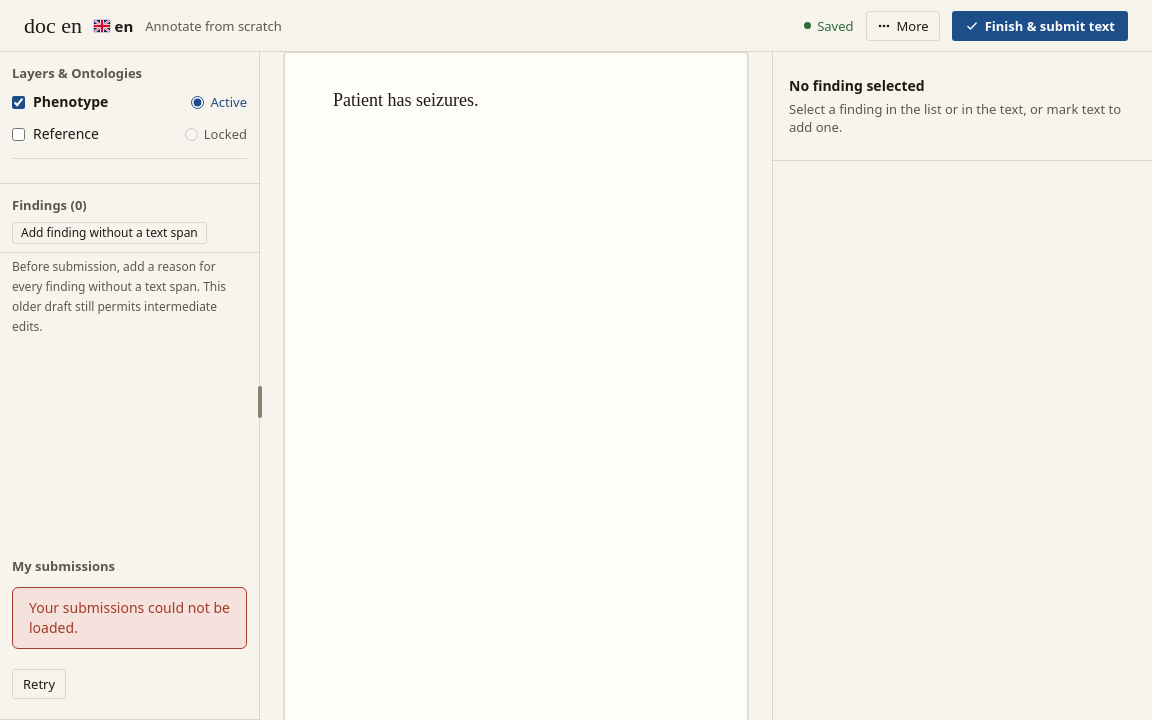
opens the newly created exact round from the real task editor controls
Click the button with aria-label "More actions" at coordinates (903, 26), box [866,10,940,40]
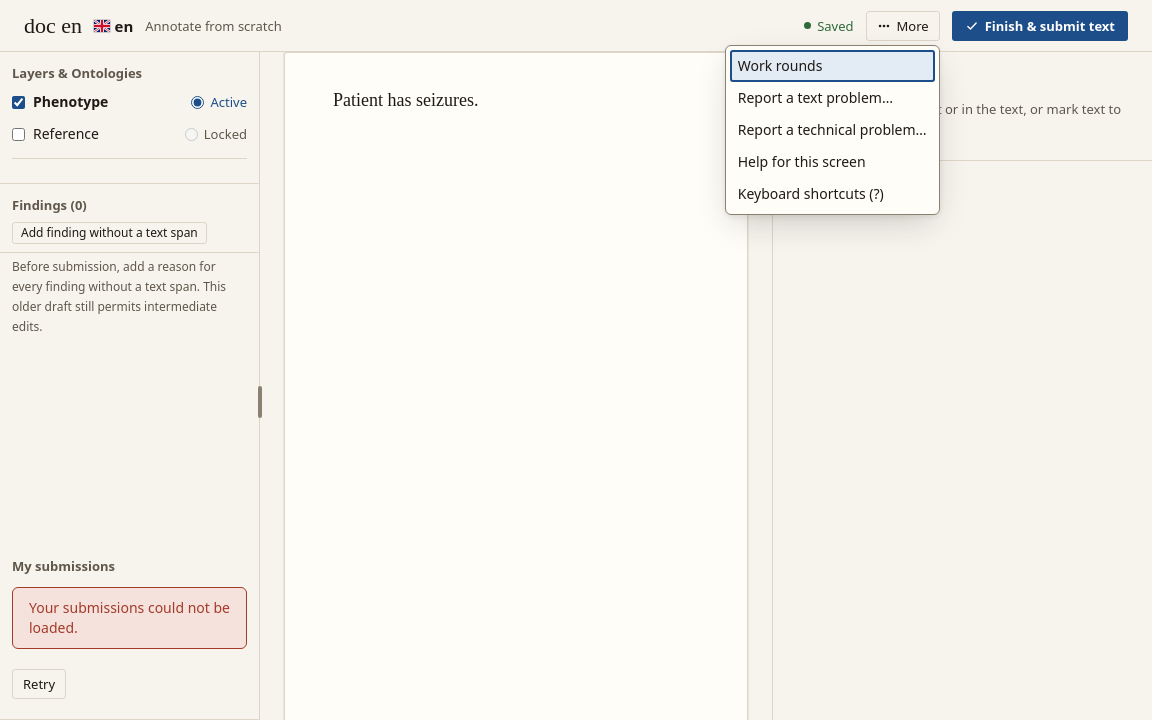
Click the menu item "Work rounds" at coordinates (832, 66), box [730,50,935,82]
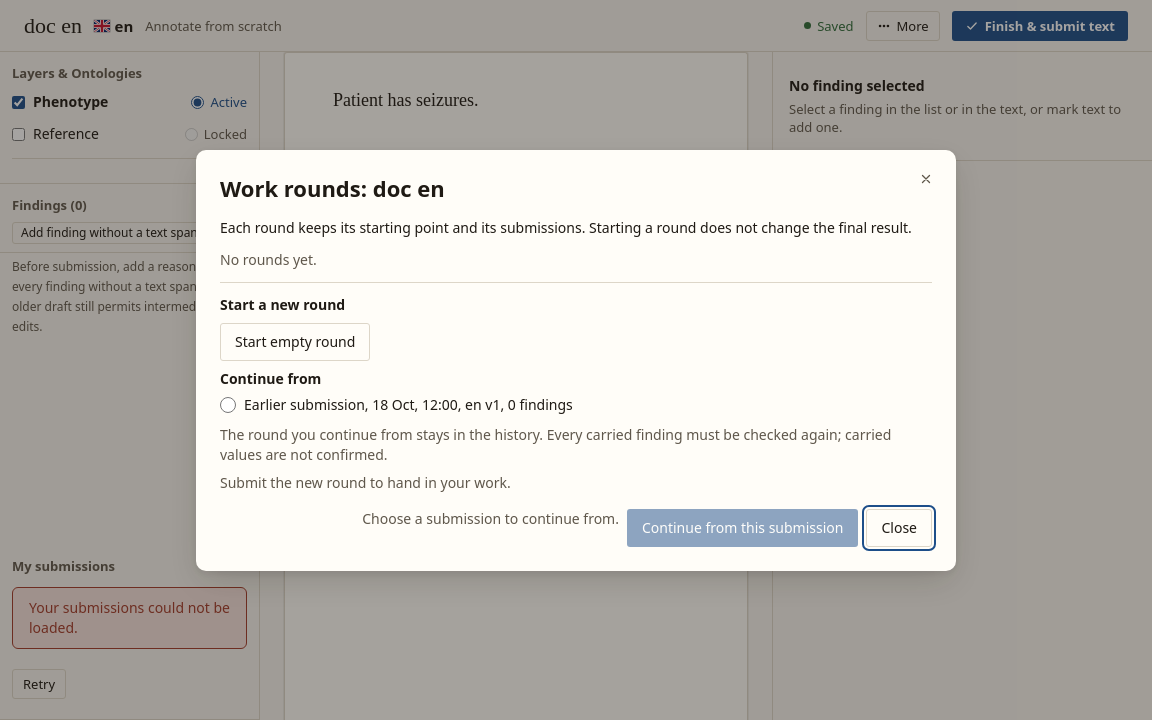
Click the radio button labelled "Earlier submission, 18 Oct, 12:00, en v1, 0 findings" at coordinates (228, 404), box [220,396,236,412]
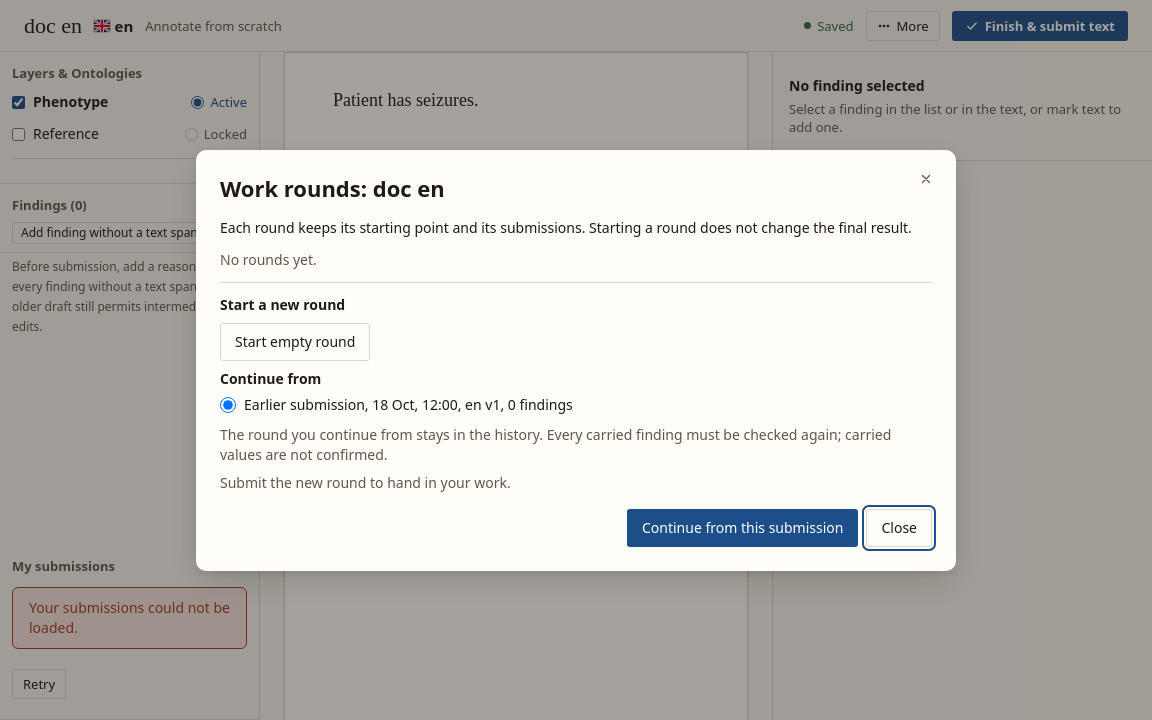
Click the button "Continue from this submission" at coordinates (743, 528), box [627,508,858,546]
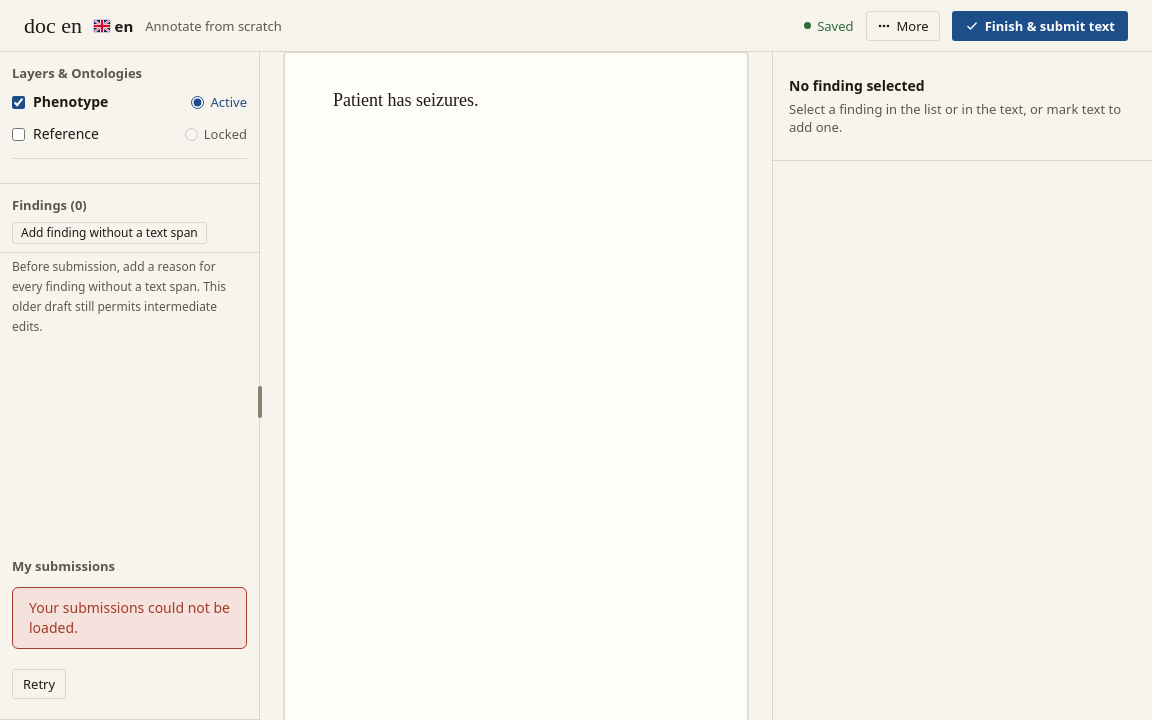
Now the heading "Work rounds" is gone
